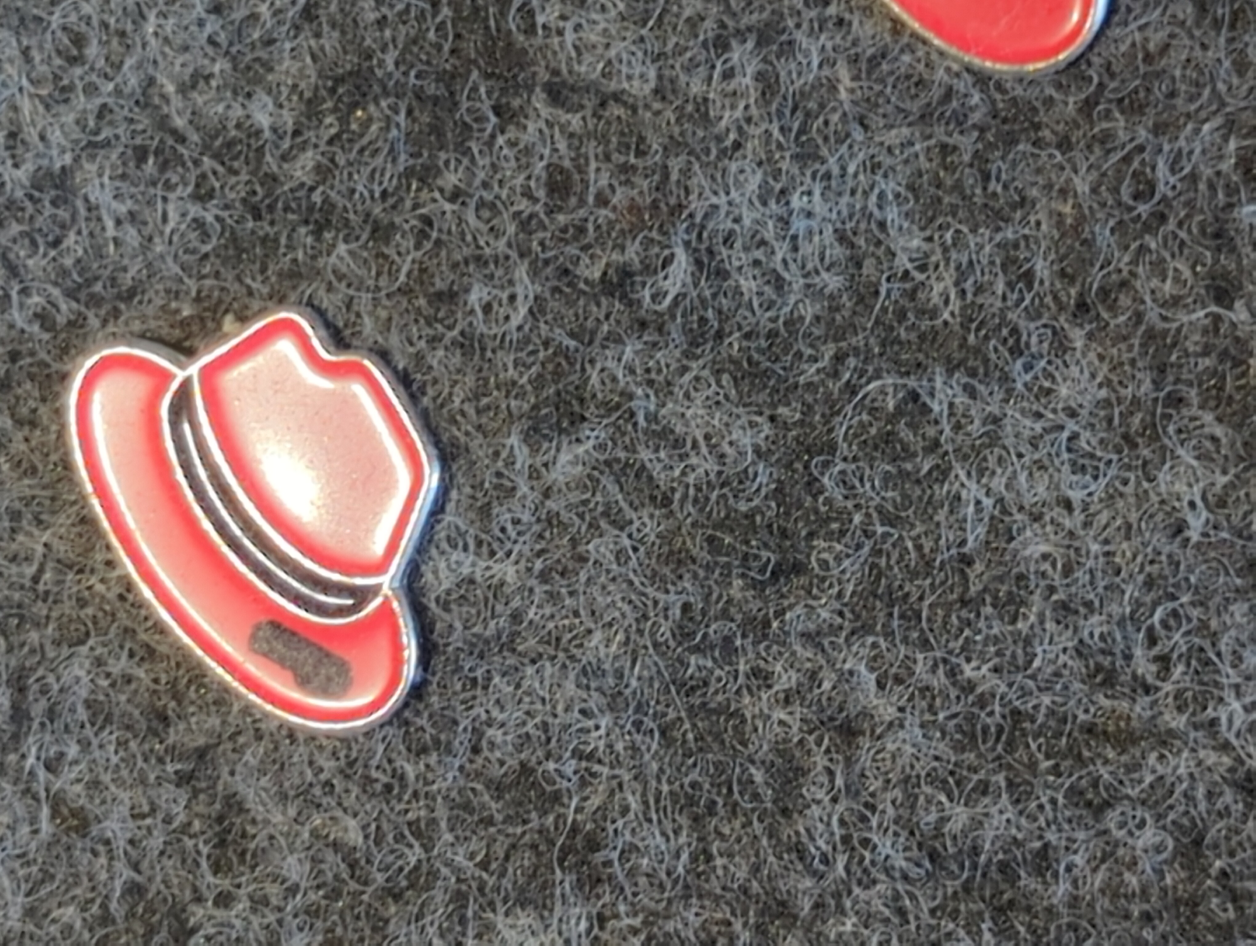Red-Hat: (22, 229, 557, 849)
Scratch: (213, 579, 399, 741)
